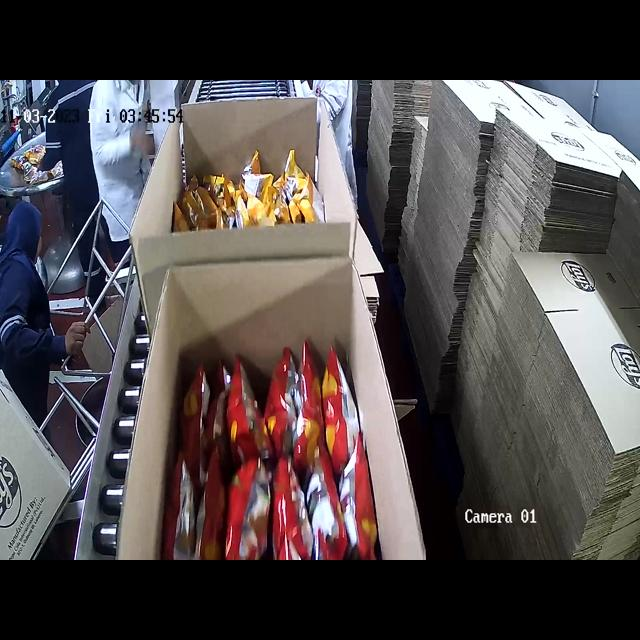cheese: (191, 165, 322, 218)
masala: (182, 341, 344, 560)
